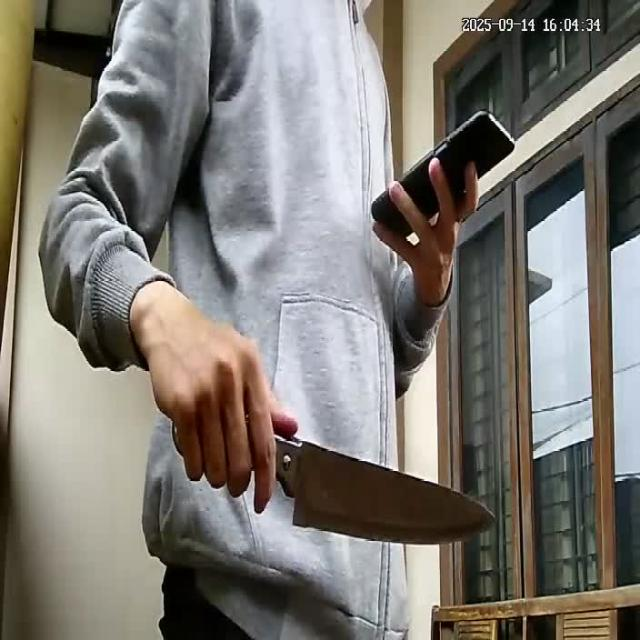senjata_tajam: (275, 434, 497, 548)
